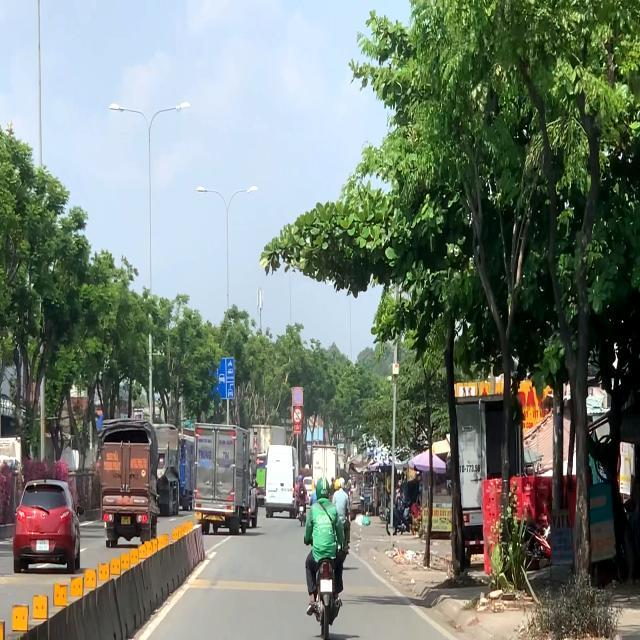P-130: (292, 387, 303, 406)
